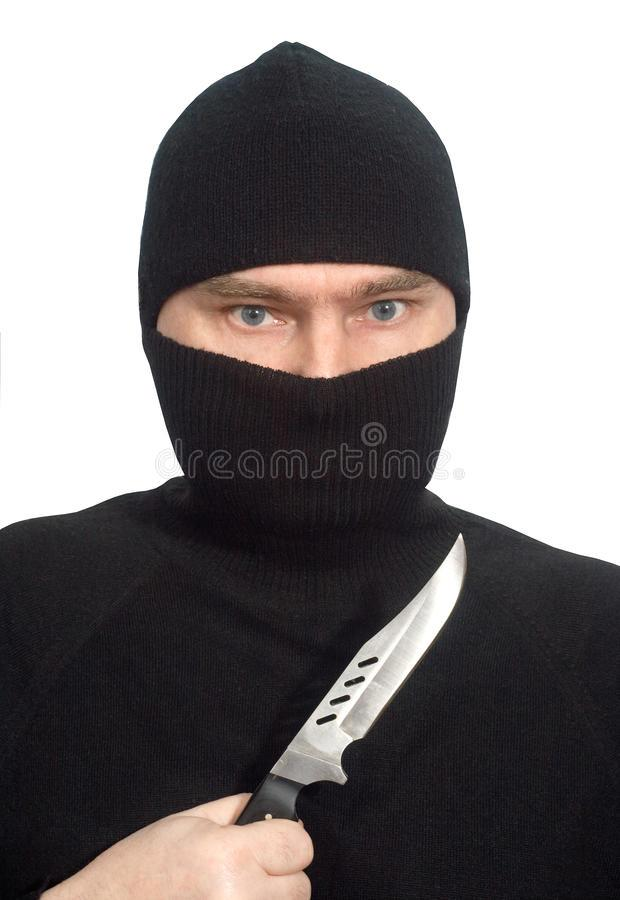criminal: (0, 34, 620, 900)
weapon: (233, 526, 472, 833)
